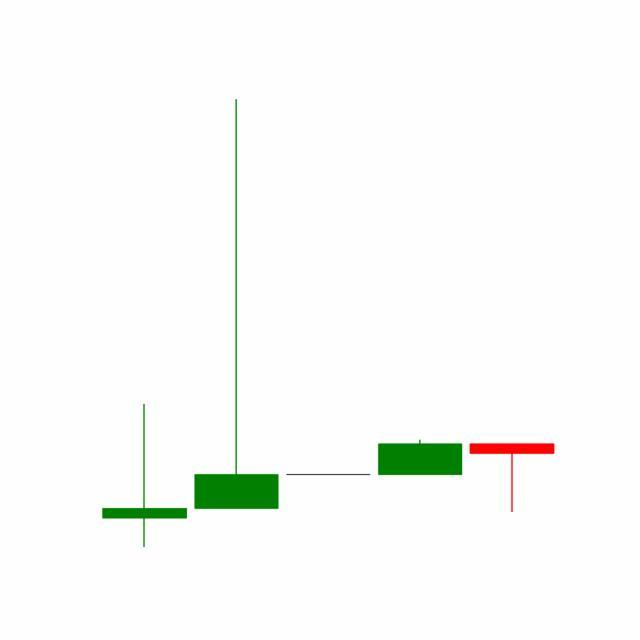Hammer: (466, 443, 559, 514)
